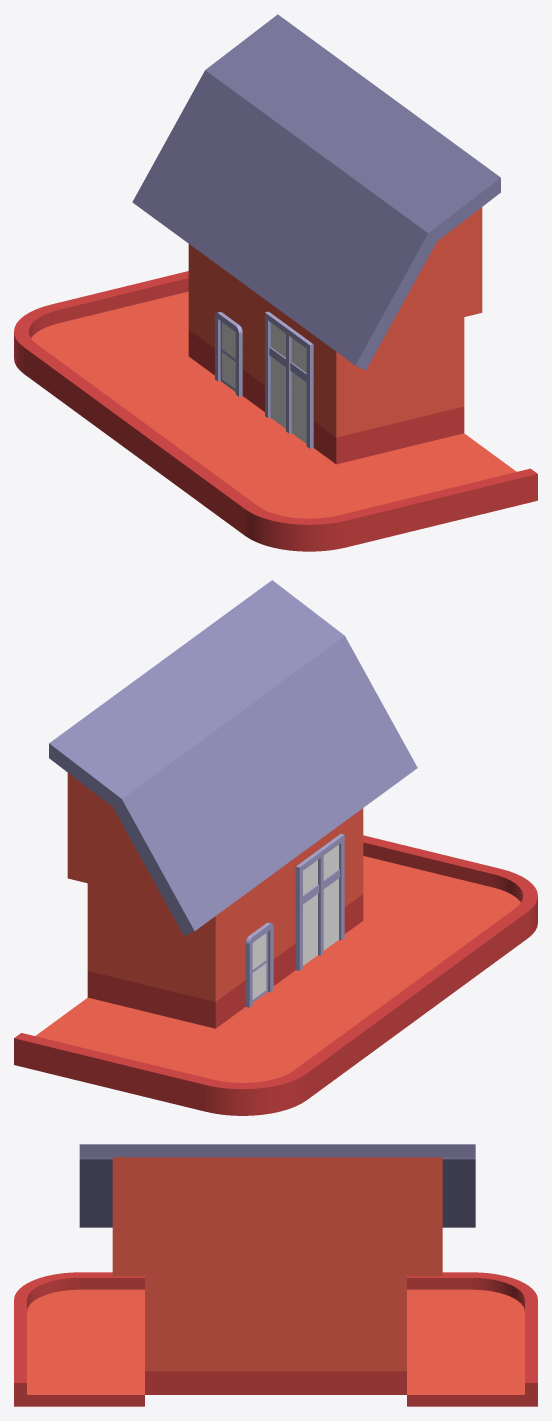
Rendered from Station_02.fbx.
The picture shows the model from 3 angles, top to bottom: view 1: azimuth 30°, elevation 25°; view 2: azimuth 150°, elevation 25°; view 3: azimuth 270°, elevation 25°; orthographic projection. The views are drawn at different scales.
Visible parts, largest first — view 1: roof_barnHalf, roof_flatEdge (×3), block, roof_flatCornerRoundOpen (×2), door_wide, door_low; view 2: roof_barnHalf, roof_flatEdge (×3), block, roof_flatCornerRoundOpen (×2), door_wide, door_low; view 3: roof_barnHalf, block, roof_flatEdge (×2), roof_flatCornerRoundOpen (×2).
Boxes of the visible parts, bbox=[...] form: roof_barnHalf: bbox=[132, 14, 500, 370]; roof_flatEdge (×3): bbox=[60, 271, 537, 531]; block: bbox=[188, 244, 464, 464]; roof_flatCornerRoundOpen (×2): bbox=[14, 289, 409, 551]; door_wide: bbox=[265, 311, 313, 448]; door_low: bbox=[215, 312, 242, 396]; roof_barnHalf: bbox=[49, 580, 417, 935]; roof_flatEdge (×3): bbox=[14, 835, 491, 1095]; block: bbox=[87, 808, 363, 1028]; roof_flatCornerRoundOpen (×2): bbox=[142, 853, 537, 1115]; door_wide: bbox=[295, 834, 344, 970]; door_low: bbox=[245, 922, 273, 1007]; roof_barnHalf: bbox=[79, 1144, 475, 1276]; block: bbox=[145, 1276, 406, 1394]; roof_flatEdge (×2): bbox=[14, 1327, 537, 1406]; roof_flatCornerRoundOpen (×2): bbox=[14, 1272, 537, 1339].
Size of the model in its own units: 0.2 by 0.2212 by 0.4.
